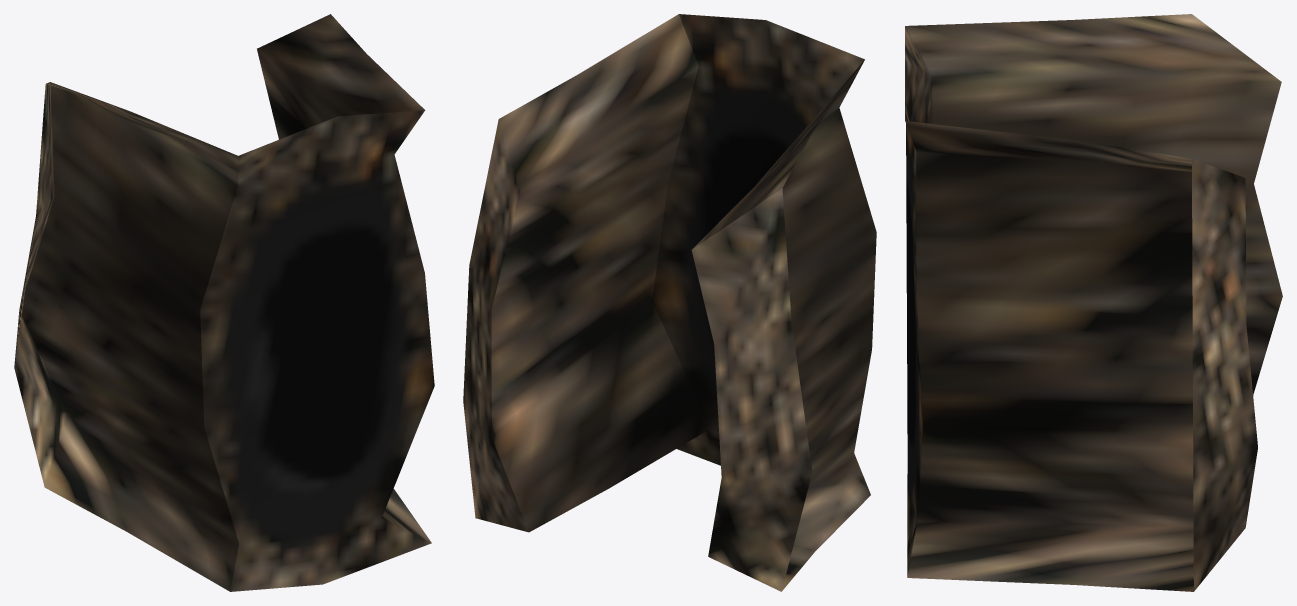
File: mur_creux.fbx
3 renders of one model, left to right at view 1: azimuth 30°, elevation 25°; view 2: azimuth 150°, elevation 25°; view 3: azimuth 270°, elevation 25°, orthographic. The views are drawn at different scales.
Visible parts, largest first — view 1: Cube.001; view 2: Cube.001; view 3: Cube.001.
Part boxes in pixels (x1,y1,x2,y2): Cube.001: (14, 14, 434, 591); Cube.001: (463, 14, 876, 591); Cube.001: (905, 14, 1282, 591).
Size of the model in its own units: 181 by 230 by 163.
